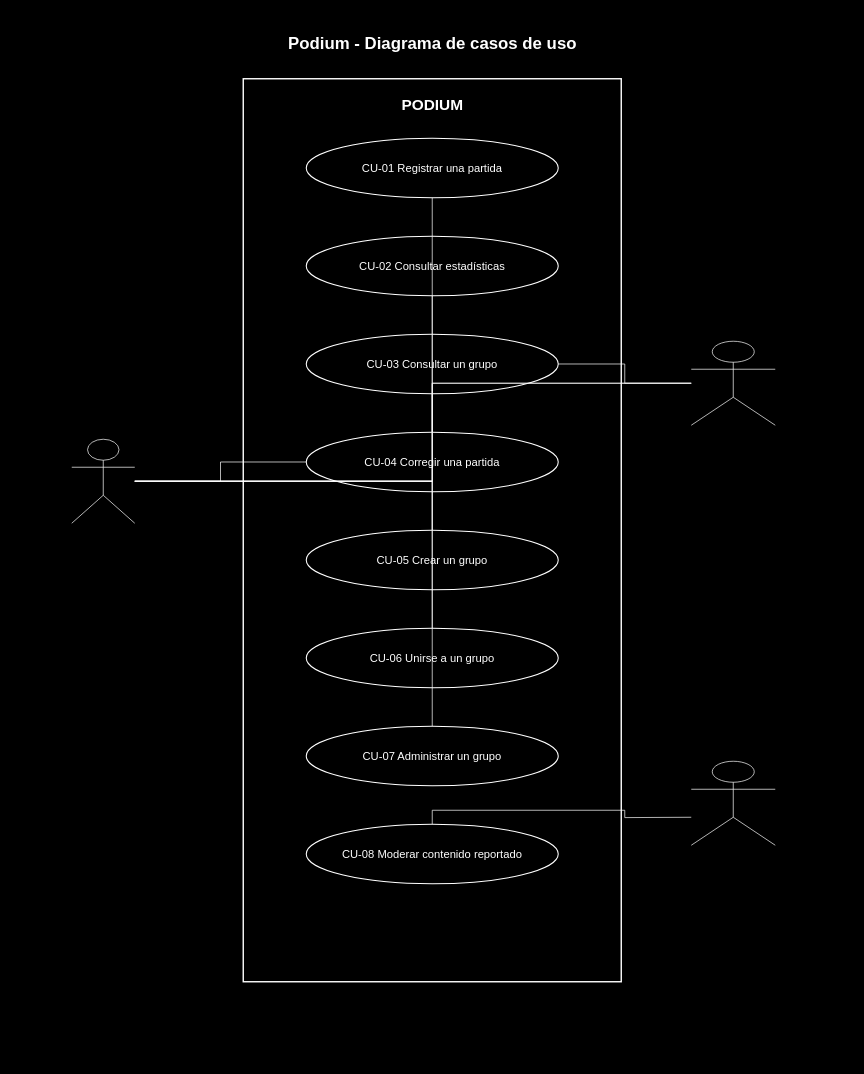
Some shapes in this 864 by 1074 pixel diagram are drawn without their labels. Here are the shapes that lost their labels. From the top down, the centre of each, then its label:
At (x=733, y=383): "Administrador de grupo".
At (x=103, y=481): "Usuario".
At (x=733, y=803): "Administrador de Podium".
